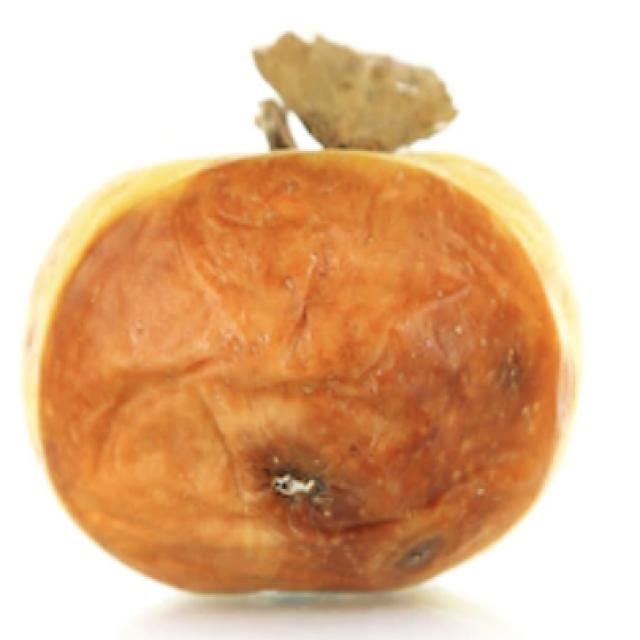rotten_apple: (33, 94, 585, 595)
